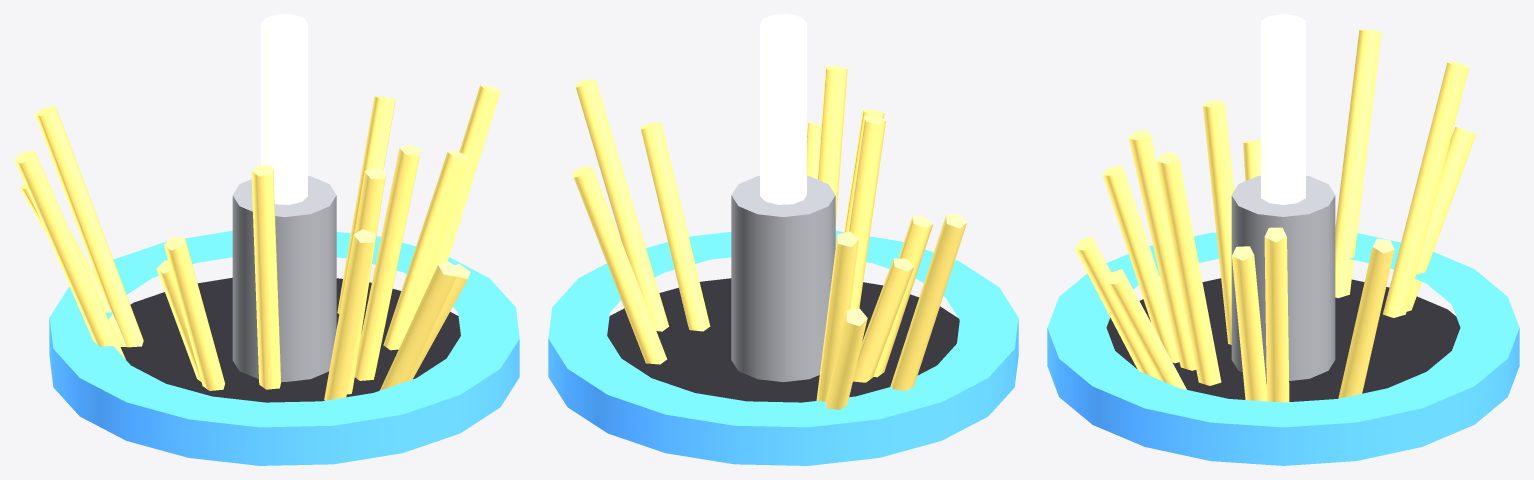
Rendered from cut_fiber.glb.
The picture shows the model from 3 angles, left to right: view 1: azimuth 30°, elevation 25°; view 2: azimuth 150°, elevation 25°; view 3: azimuth 270°, elevation 25°; orthographic projection.
Parts seen in each view (by area): view 1: aramid, jacket_ring, buffer, filler, core; view 2: jacket_ring, aramid, buffer, filler, core; view 3: aramid, jacket_ring, buffer, filler, core.
Boxes of the visible parts, box(x1,y1,x2,y2) form: aramid: box(14, 85, 500, 400); jacket_ring: box(49, 231, 519, 465); buffer: box(232, 176, 336, 381); filler: box(120, 277, 460, 402); core: box(261, 14, 307, 204); jacket_ring: box(548, 231, 1018, 465); aramid: box(572, 65, 966, 409); buffer: box(731, 176, 835, 381); filler: box(607, 278, 959, 402); core: box(760, 14, 806, 204); aramid: box(1075, 29, 1476, 402); jacket_ring: box(1047, 232, 1519, 465); buffer: box(1231, 175, 1335, 380); filler: box(1106, 278, 1460, 401); core: box(1261, 14, 1305, 204).
Size of the model in its own units: 2.13 by 1.62 by 2.
